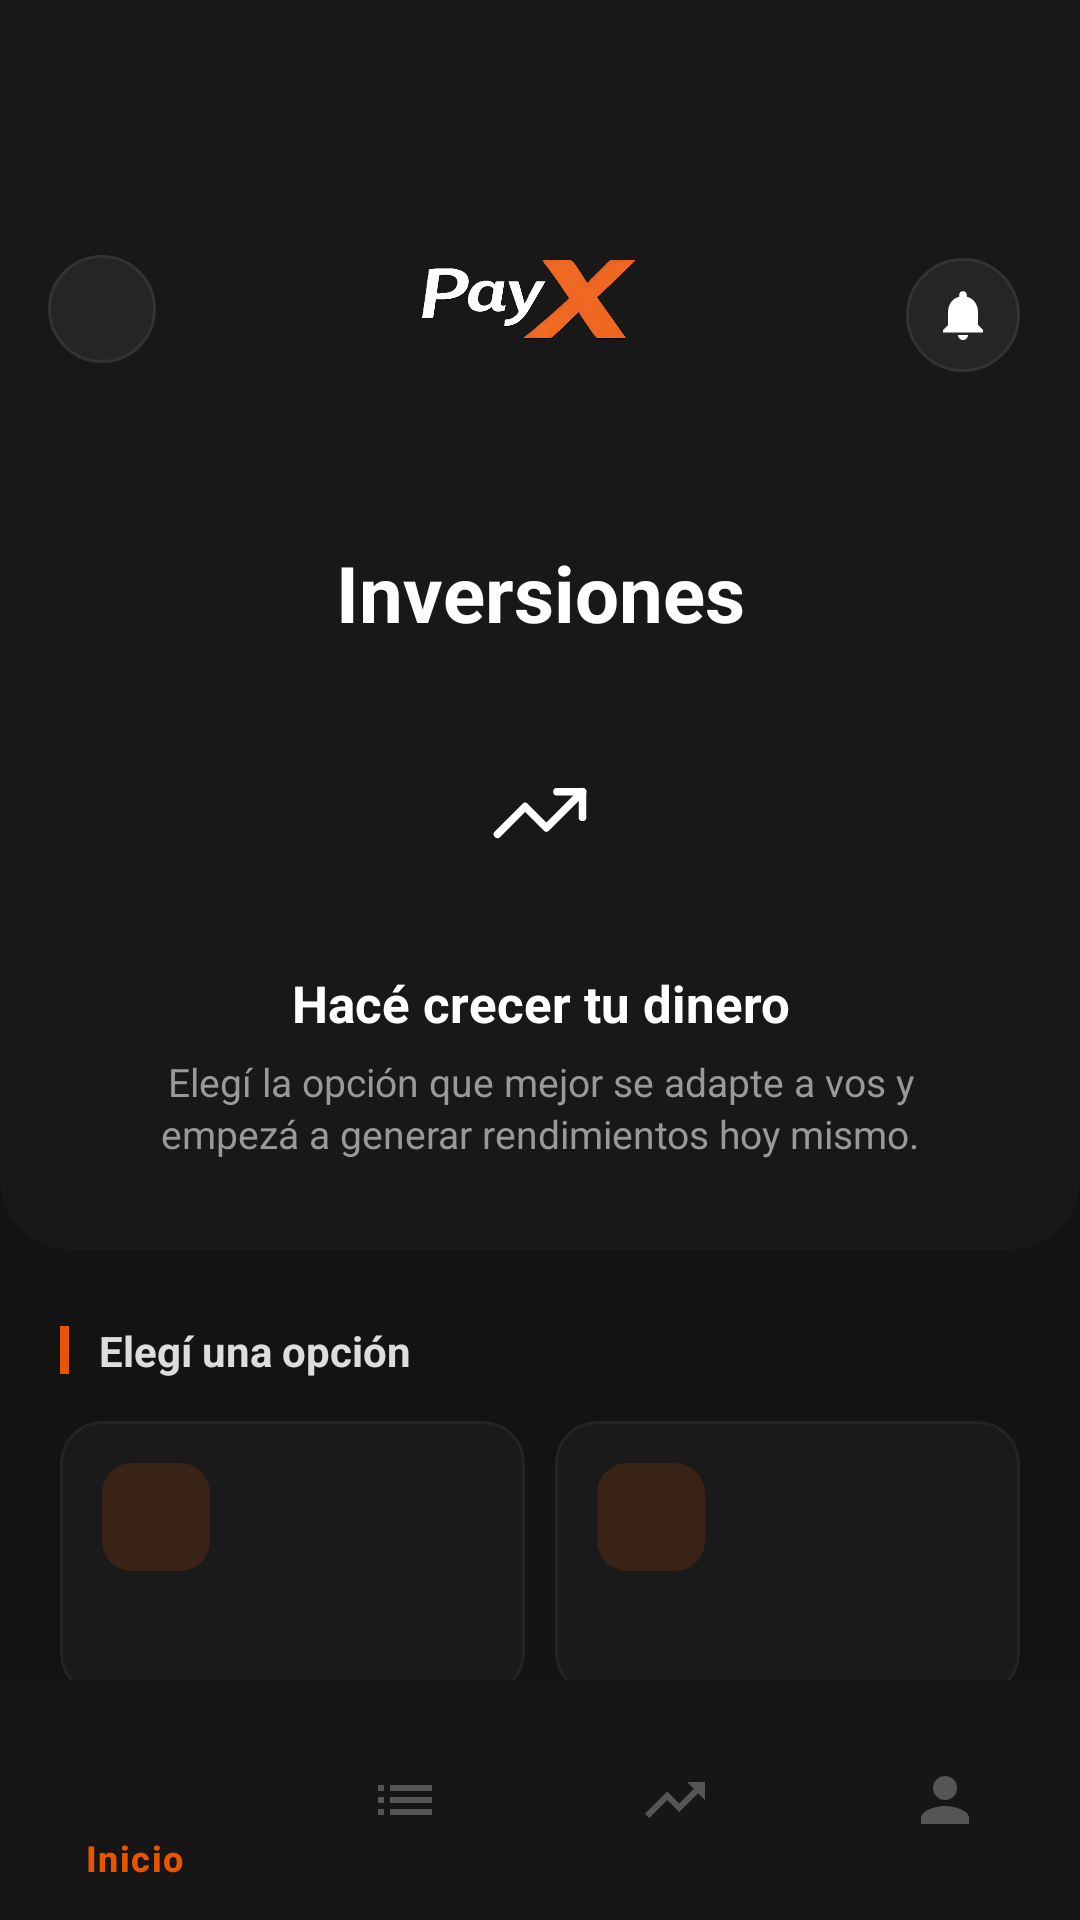

Named icons in this screenshot (1080x1920) and their bounding boxes, (x1, y1, x2, y2):
Notificaciones: (906, 258, 1020, 372)
trending up: (493, 787, 587, 839)
